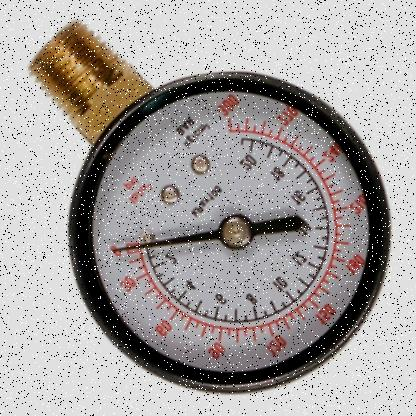needle: (111, 229, 220, 253)
